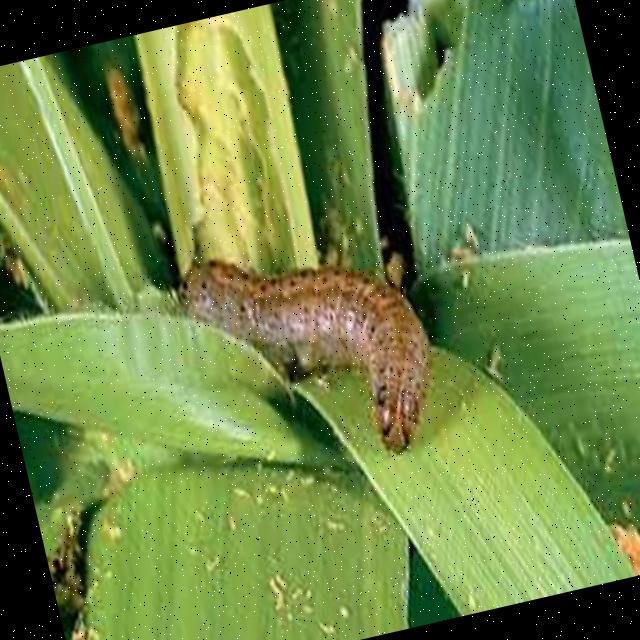worm: (169, 209, 457, 496)
